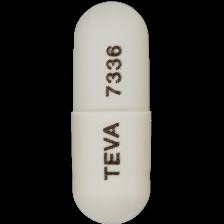60687-108: (0, 0, 224, 224)
